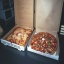pizza: (30, 32, 57, 54), (7, 26, 27, 50)
